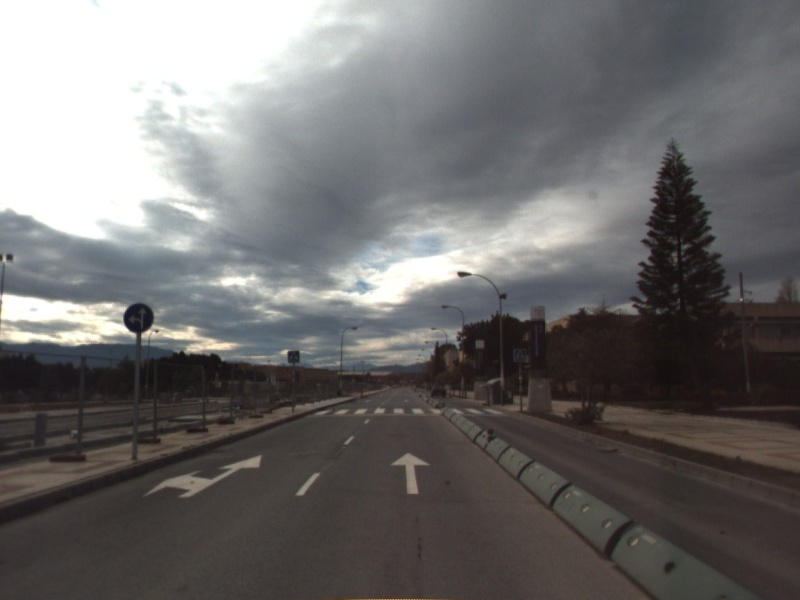STRAIGHT: (389, 450, 433, 496)
STRAIGHT_LEFT: (141, 453, 264, 500)
